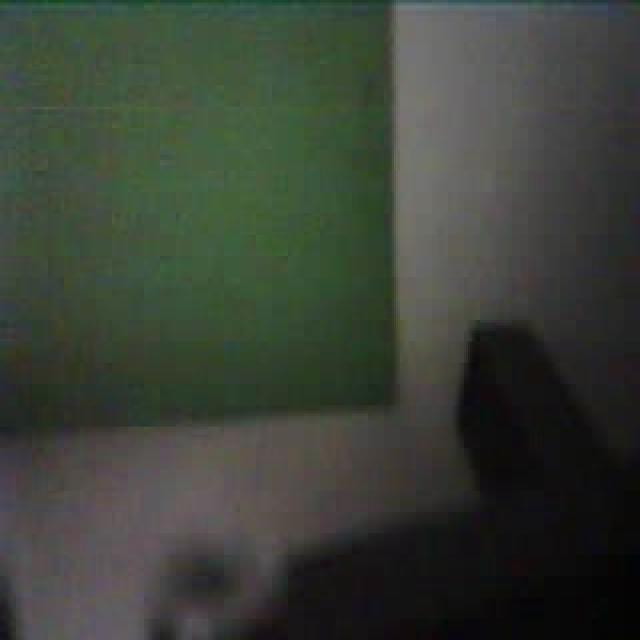green_box: (0, 0, 400, 429)
